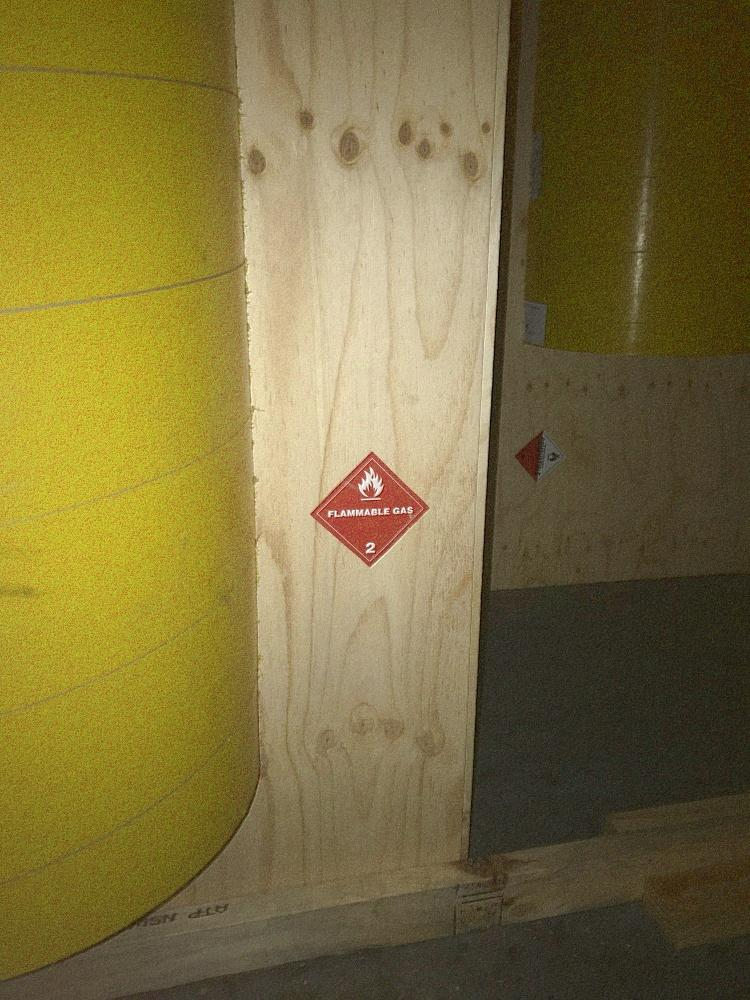flammable: (312, 449, 431, 569)
